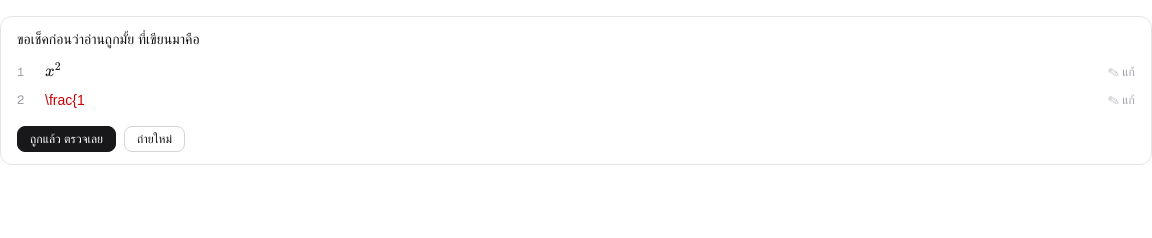
Test: OcrConfirmCard › TM08 broken LaTeX in a line still shows the card and the line can be edited
Expected: the number of list items is 2, [17,57,1135,86]; [17,92,1135,108]
What coordinates should you click on to do the following:
click the button with aria-label "แก้บรรทัด 2"
I would click on:
 (1122, 100)
Its box is [1108,92,1135,108].
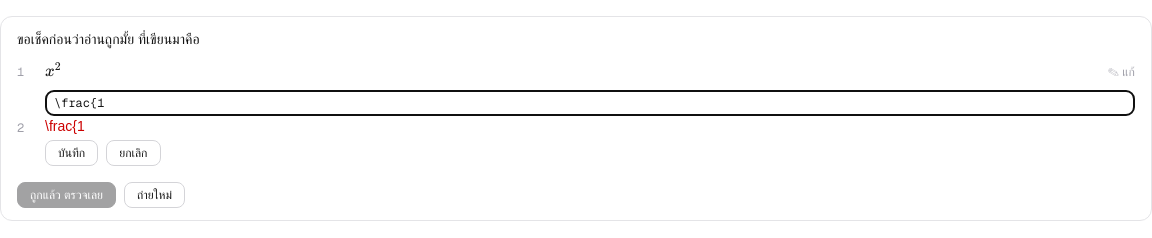
Expected: the field named "บรรทัด 2" is shown, [45,90,1135,116]
